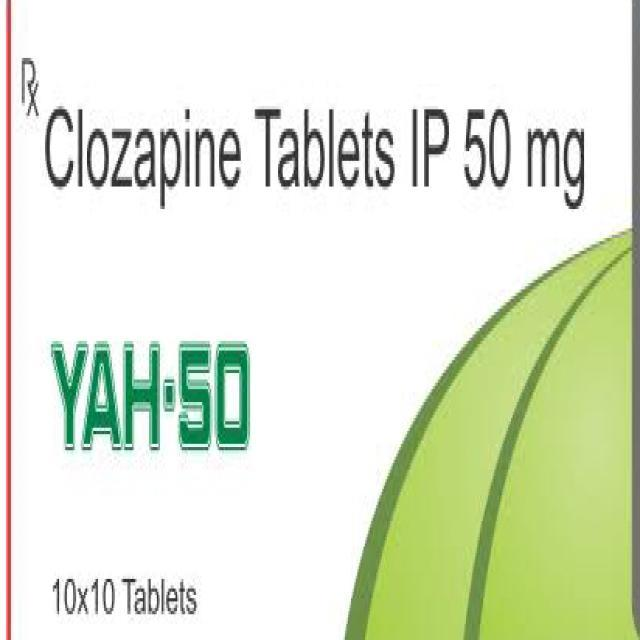drug-name: (47, 333, 254, 451)
